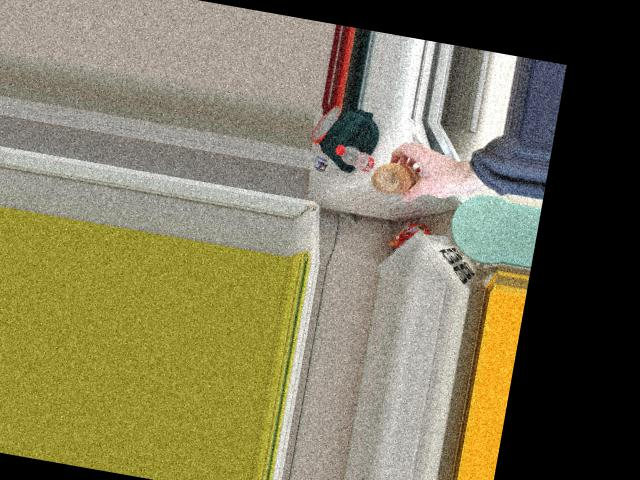sweet_potato: (365, 155, 425, 204)
